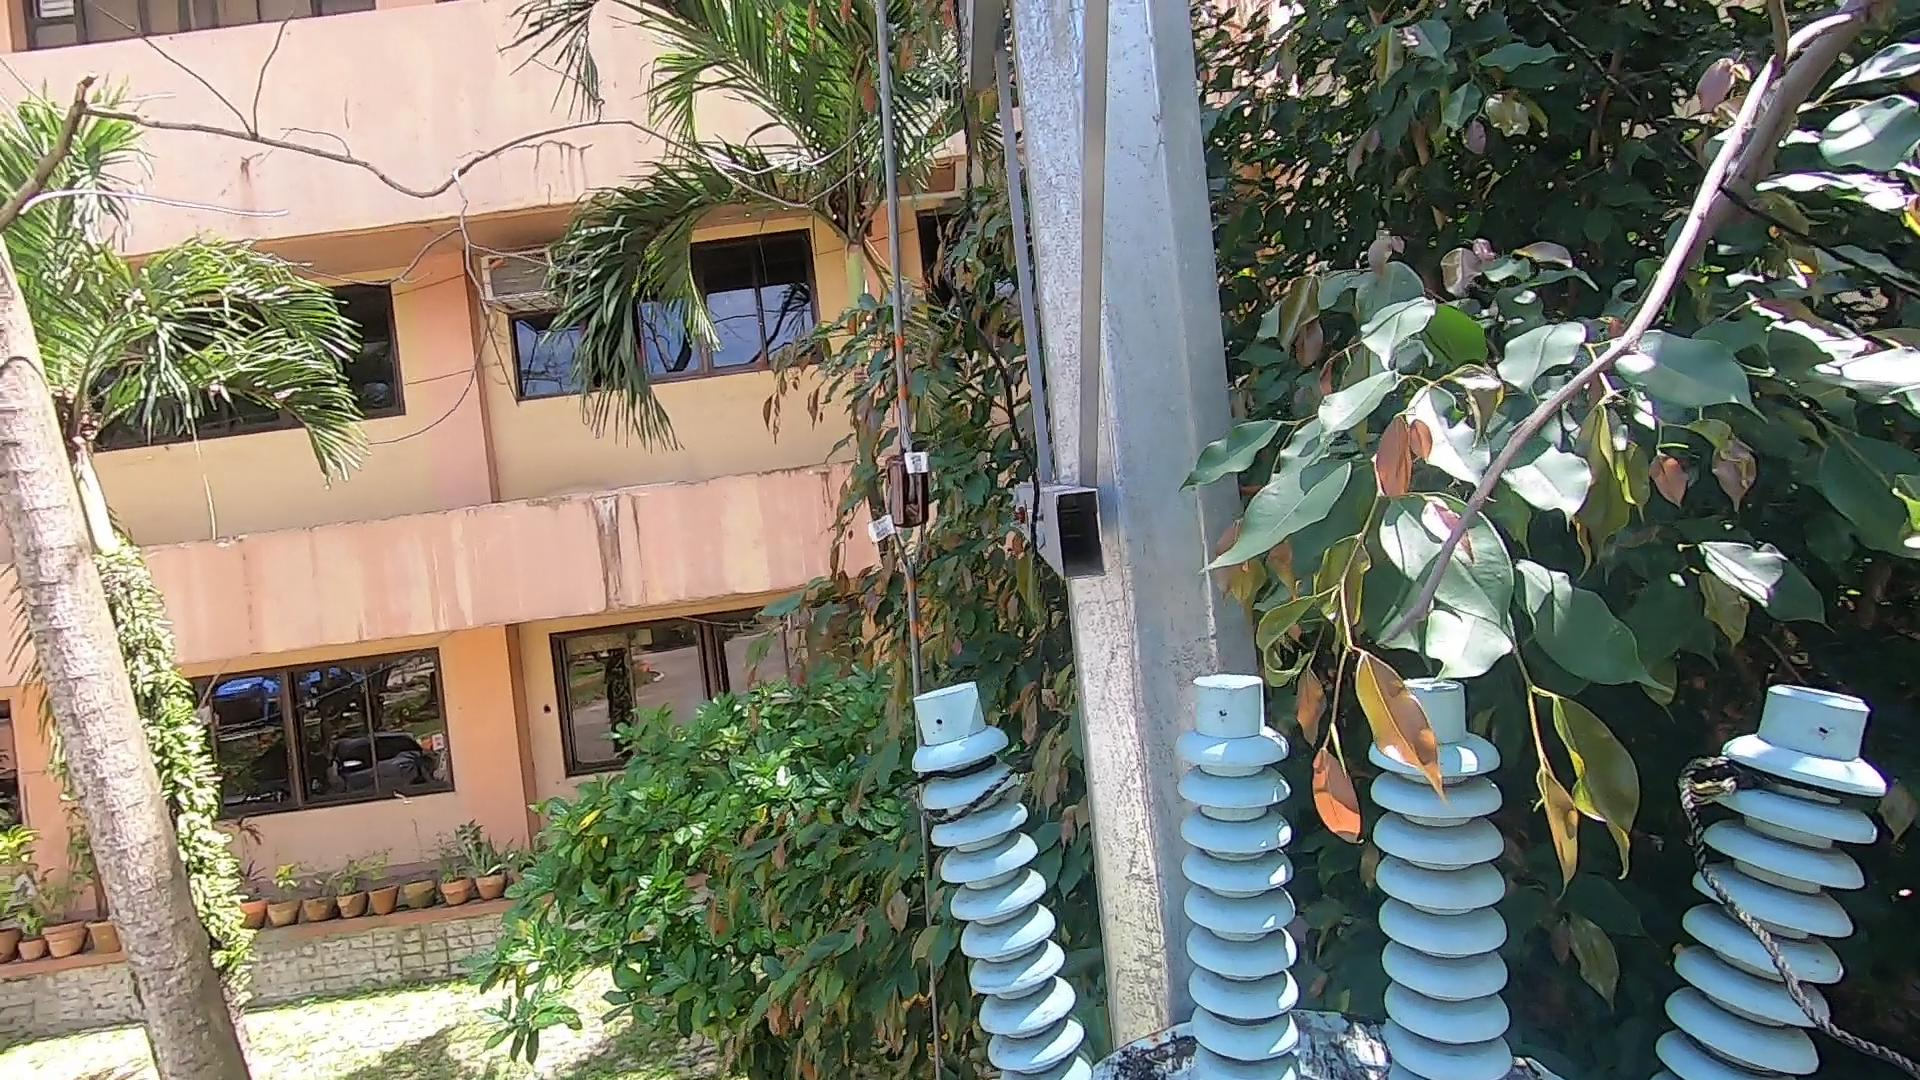tree branch: (1385, 5, 1894, 669)
